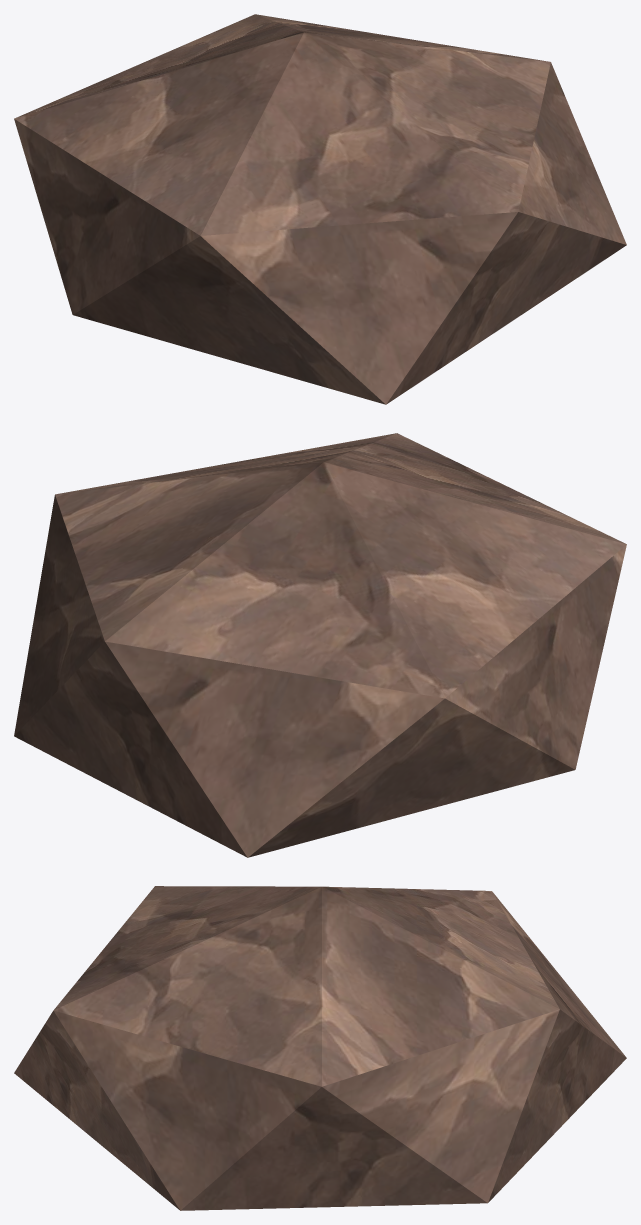
The model's file is foundation_foot__plank_root.glb.
The picture shows the model from 3 angles, top to bottom: view 1: azimuth 30°, elevation 25°; view 2: azimuth 150°, elevation 25°; view 3: azimuth 270°, elevation 25°; orthographic projection. The views are drawn at different scales.
Visible parts, largest first — view 1: model; view 2: model; view 3: model.
Boxes of the visible parts, bbox=[...] form: model: bbox=[14, 14, 626, 404]; model: bbox=[14, 433, 626, 857]; model: bbox=[14, 886, 626, 1210].
Size of the model in its own units: 0.331 by 0.1698 by 0.3842.
Materials: 1 (1 with a texture image).
